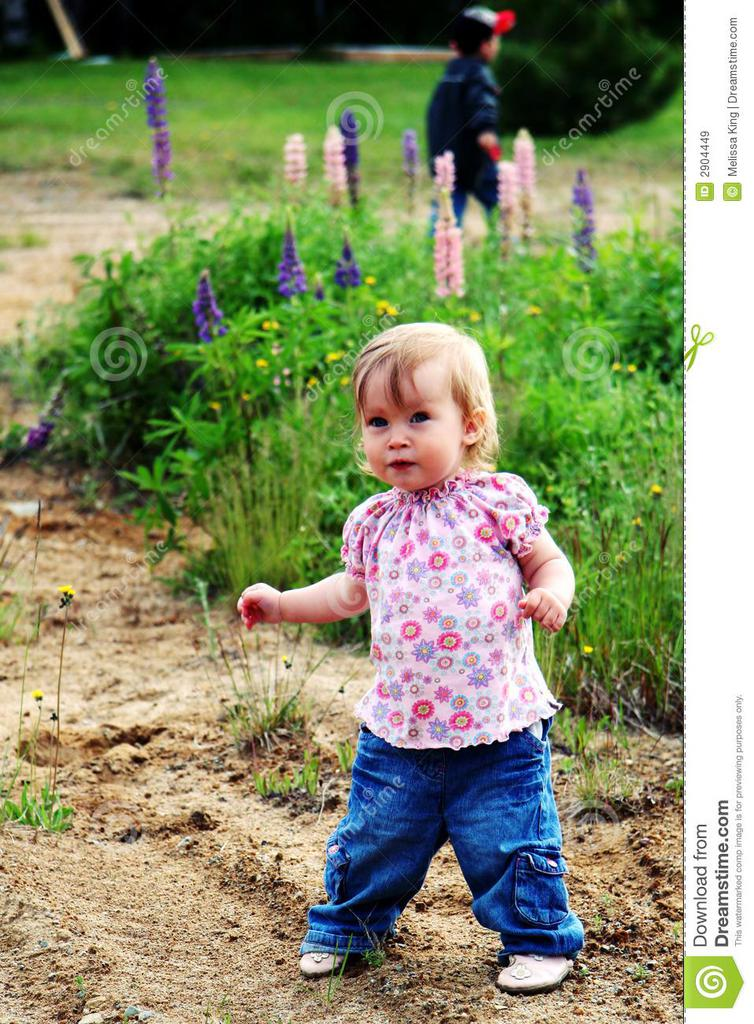child: (212, 316, 644, 1006)
